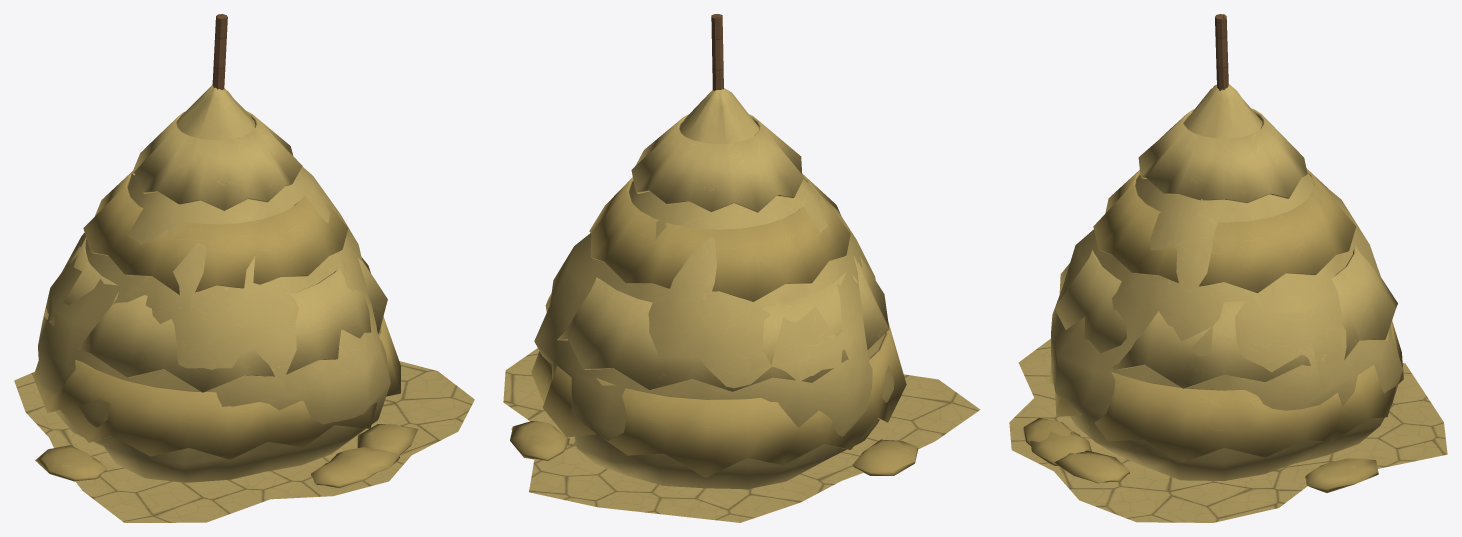
File: haystack_loose.glb
3 renders of one model, left to right at view 1: azimuth 30°, elevation 25°; view 2: azimuth 150°, elevation 25°; view 3: azimuth 270°, elevation 25°, orthographic.
Parts seen in each view (by area): view 1: haystack_loose; view 2: haystack_loose; view 3: haystack_loose.
Part boxes in pixels (x1,y1,x2,y2): haystack_loose: (14, 14, 474, 522); haystack_loose: (503, 14, 980, 522); haystack_loose: (1009, 14, 1447, 522).
Size of the model in its own units: 4.2 by 4.1 by 4.03.
Materials: 4 (4 with a texture image).
